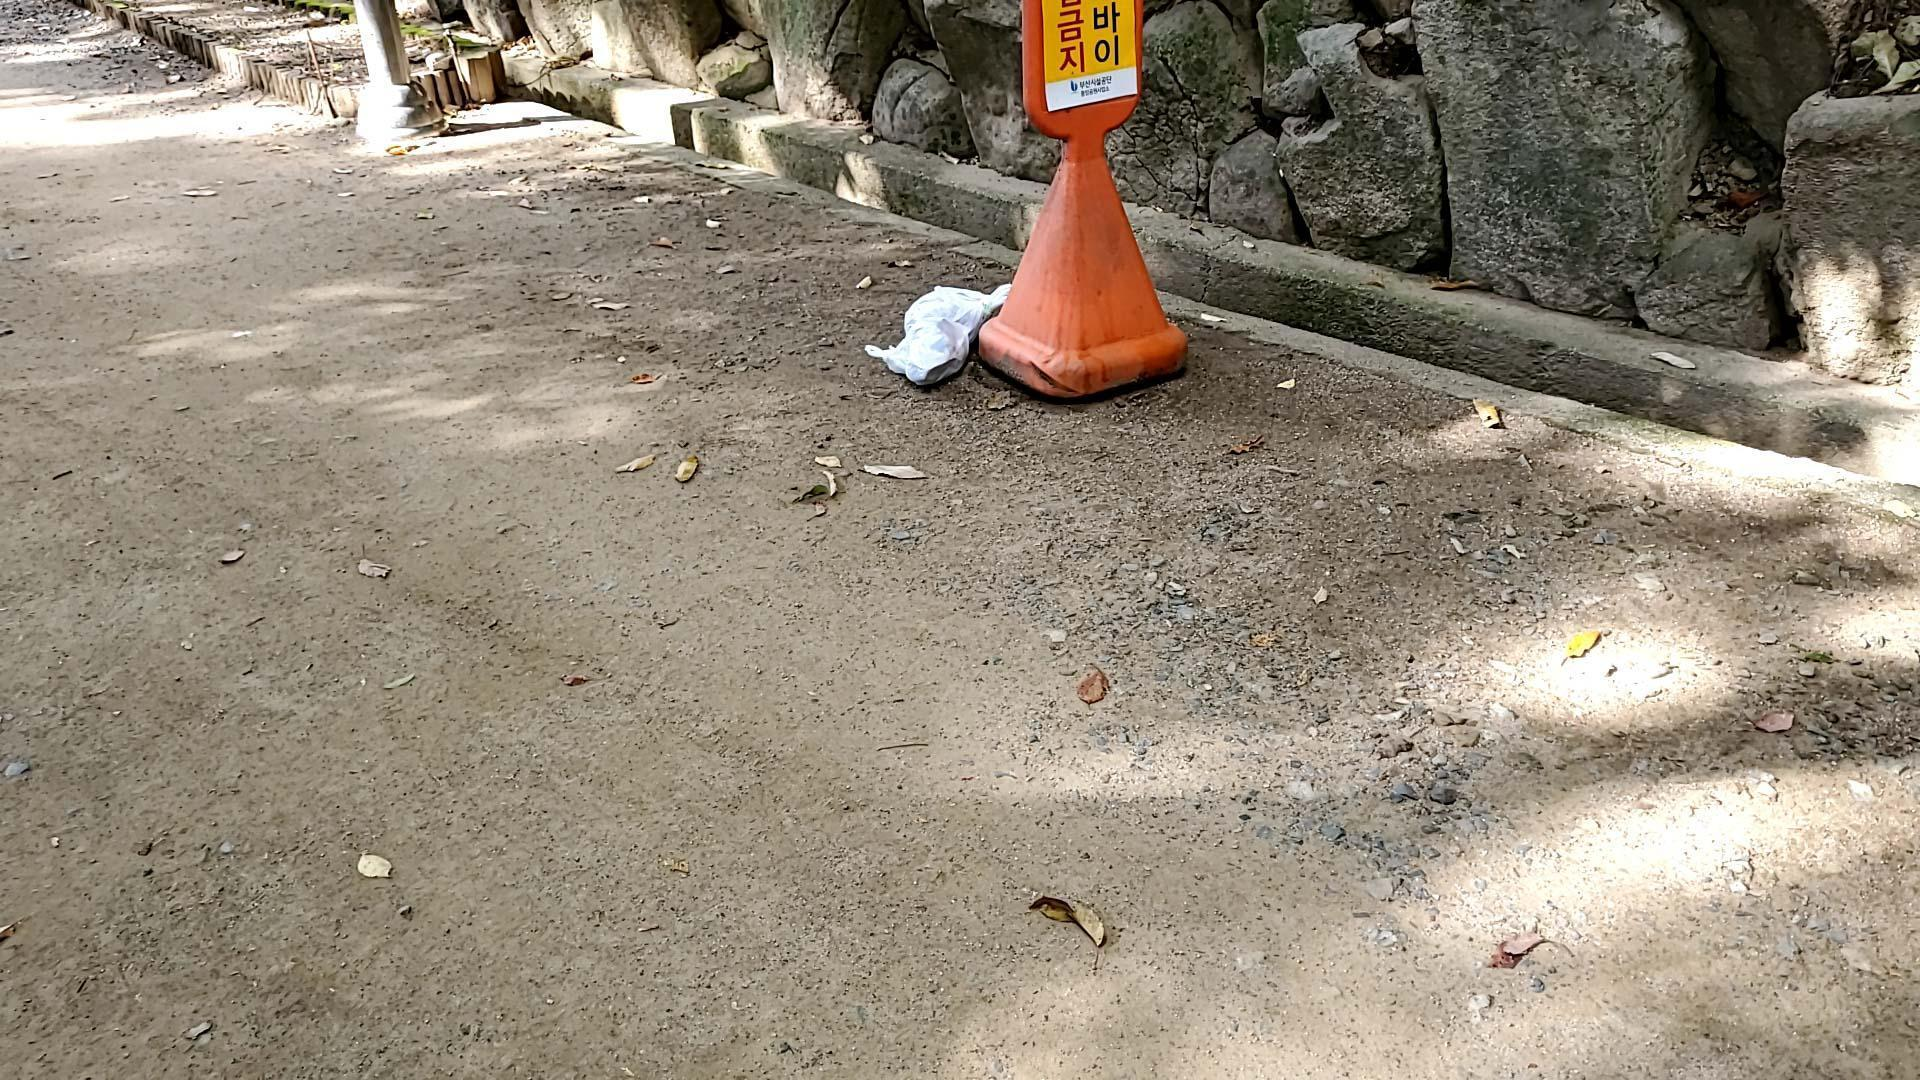white_bag: (899, 276, 1017, 351), (861, 316, 972, 392)
